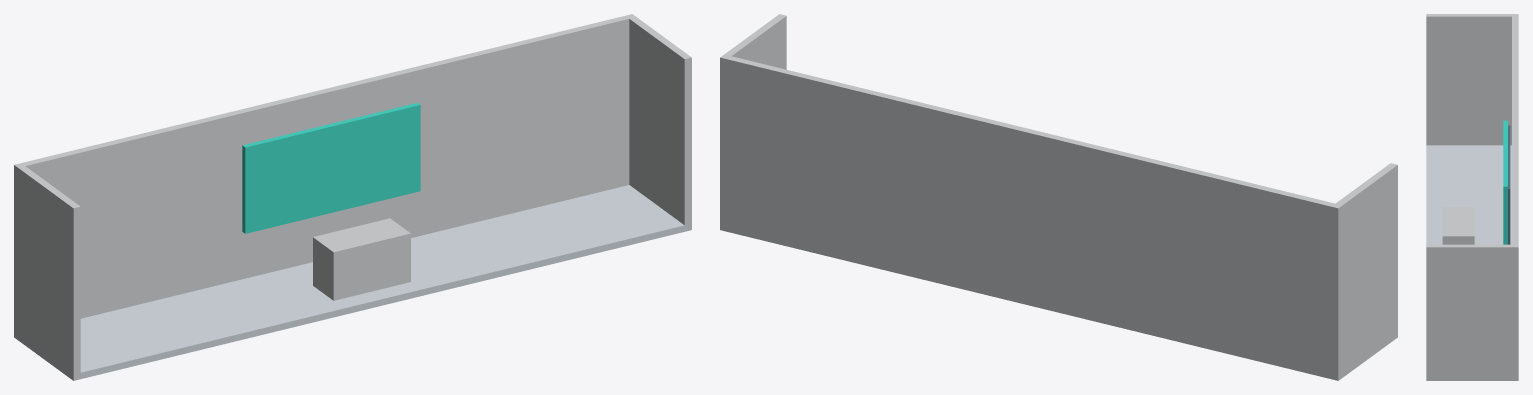
The picture shows the model from 3 angles, left to right: view 1: azimuth 30°, elevation 25°; view 2: azimuth 150°, elevation 25°; view 3: azimuth 270°, elevation 25°; orthographic projection. The views are drawn at different scales.
Visible parts, largest first — view 1: Exhibition Booth Concept; view 2: Exhibition Booth Concept; view 3: Exhibition Booth Concept.
Part boxes in pixels (x1,y1,x2,y2): Exhibition Booth Concept: [14, 14, 691, 380]; Exhibition Booth Concept: [720, 14, 1397, 380]; Exhibition Booth Concept: [1426, 14, 1518, 380].
Bounding box in the file's own units: 12 × 3.2 × 2.
